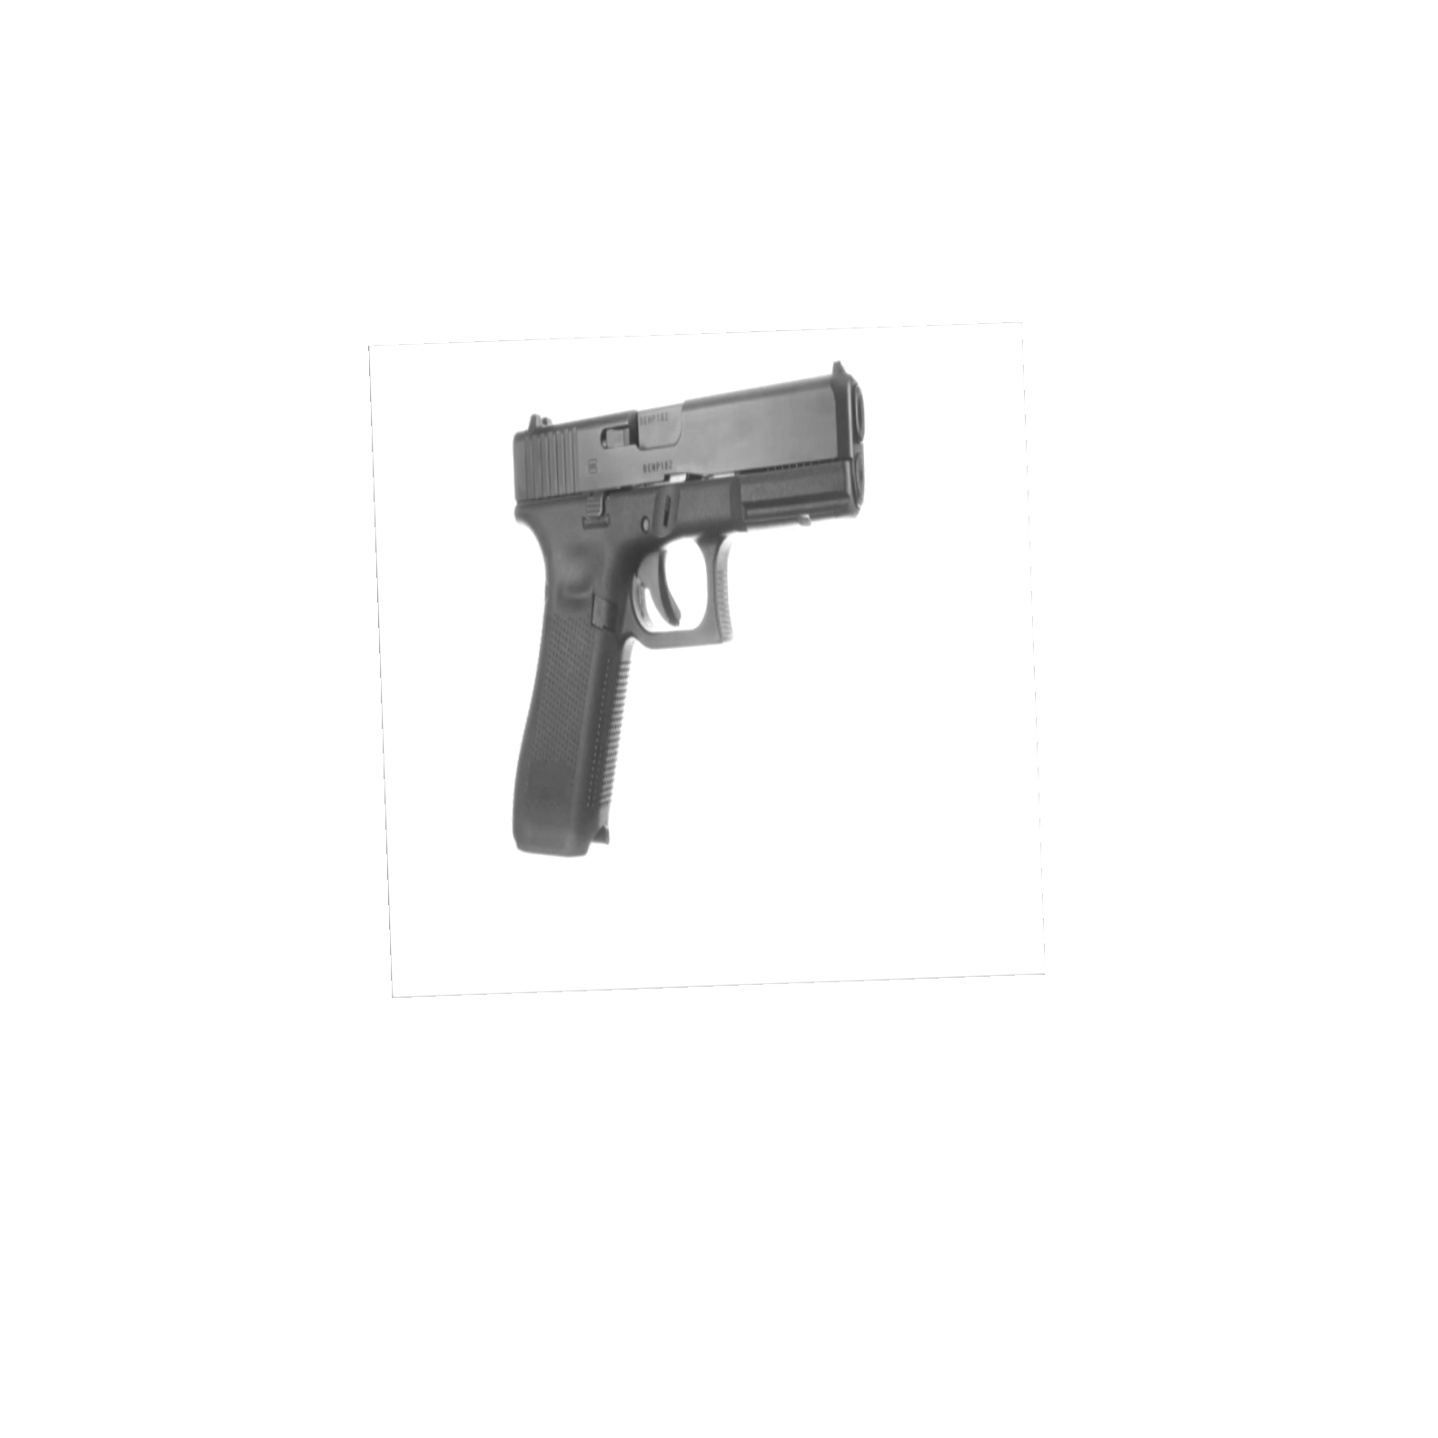gun: (514, 362, 866, 859)
